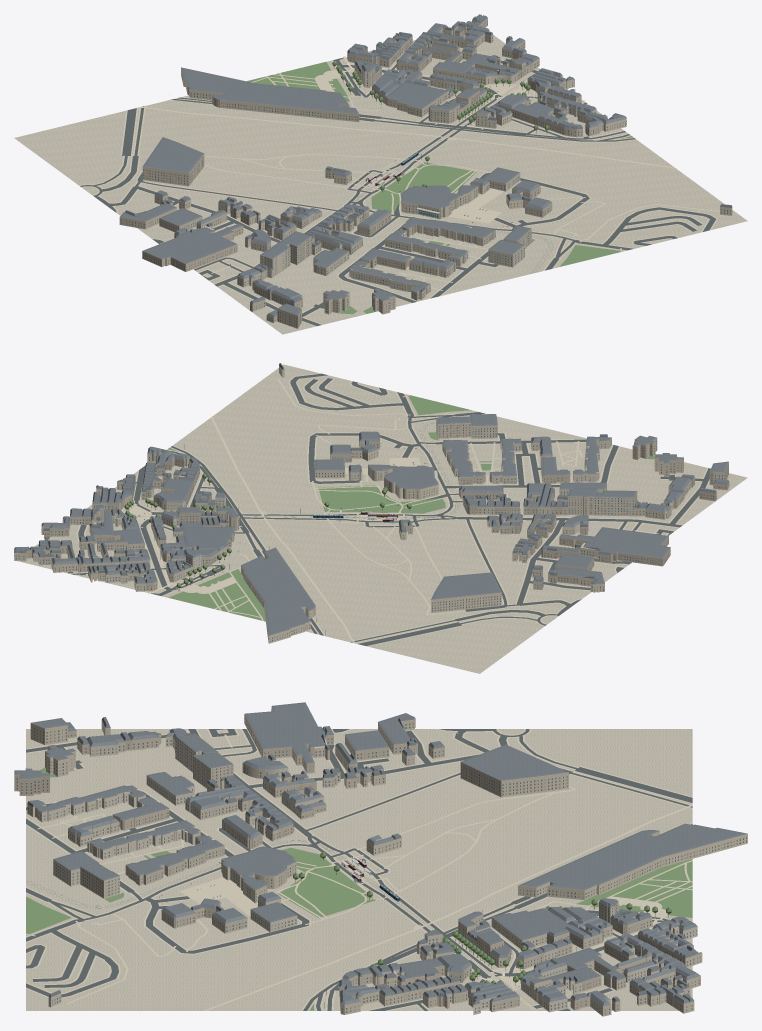
File: comedie.glb
The picture shows the model from 3 angles, top to bottom: view 1: azimuth 30°, elevation 25°; view 2: azimuth 150°, elevation 25°; view 3: azimuth 270°, elevation 25°; orthographic projection. The views are drawn at different scales.
Visible parts, largest first — view 1: Matériau 0, Matériau 10, Matériau 74, Matériau 1, Matériau 12, Matériau 11, Matériau 13, Matériau 9, Matériau 8, Matériau 2, Matériau 6, Matériau 7 (+1 smaller); view 2: Matériau 0, Matériau 10, Matériau 74, Matériau 1, Matériau 12, Matériau 2, Matériau 13, Matériau 11, Matériau 9, Matériau 8, Matériau 6, Matériau 7 (+1 smaller); view 3: Matériau 0, Matériau 10, Matériau 74, Matériau 12, Matériau 1, Matériau 11, Matériau 13, Matériau 9, Matériau 2, Matériau 8, Matériau 7, Matériau 6 (+1 smaller).
Boxes of the visible parts, box(x1,y1,x2,y2) form: Matériau 0: box(14, 35, 747, 334); Matériau 10: box(120, 14, 732, 317); Matériau 74: box(79, 40, 719, 326); Matériau 1: box(80, 57, 715, 325); Matériau 12: box(142, 18, 626, 328); Matériau 11: box(202, 25, 732, 305); Matériau 13: box(119, 26, 585, 311); Matériau 9: box(120, 18, 731, 328); Matériau 8: box(120, 21, 730, 326); Matériau 2: box(246, 62, 632, 316); Matériau 6: box(142, 24, 603, 322); Matériau 7: box(121, 22, 730, 326); Matériau 0: box(17, 364, 747, 673); Matériau 10: box(14, 363, 729, 635); Matériau 74: box(66, 373, 709, 646); Matériau 1: box(67, 373, 710, 646); Matériau 12: box(14, 419, 728, 643); Matériau 2: box(168, 394, 654, 621); Matériau 13: box(39, 437, 716, 592); Matériau 11: box(33, 365, 691, 591); Matériau 9: box(15, 367, 728, 643); Matériau 8: box(15, 368, 729, 641); Matériau 6: box(30, 438, 729, 591); Matériau 7: box(14, 371, 728, 641); Matériau 0: box(26, 729, 692, 1010); Matériau 10: box(14, 702, 747, 1006); Matériau 74: box(26, 729, 692, 1010); Matériau 12: box(27, 720, 747, 1014); Matériau 1: box(26, 729, 692, 1010); Matériau 11: box(34, 737, 697, 1014); Matériau 13: box(101, 718, 690, 1016); Matériau 9: box(14, 702, 747, 1016); Matériau 2: box(26, 767, 692, 1010); Matériau 8: box(16, 718, 746, 1014); Matériau 7: box(17, 719, 747, 1014); Matériau 6: box(14, 707, 684, 1010).
Bounding box in the file's own units: 616 × 22.13 × 627.
142 materials, 60 textured.
